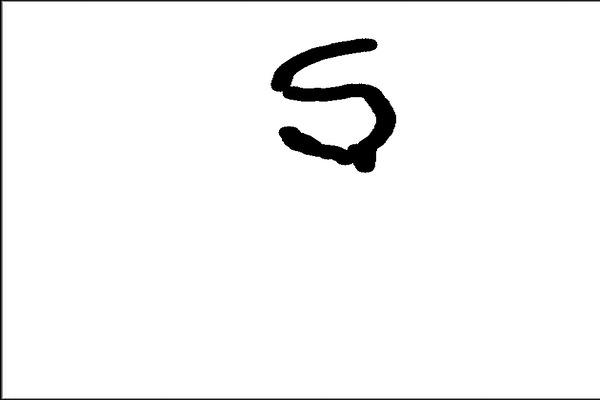S: (264, 31, 399, 176)
